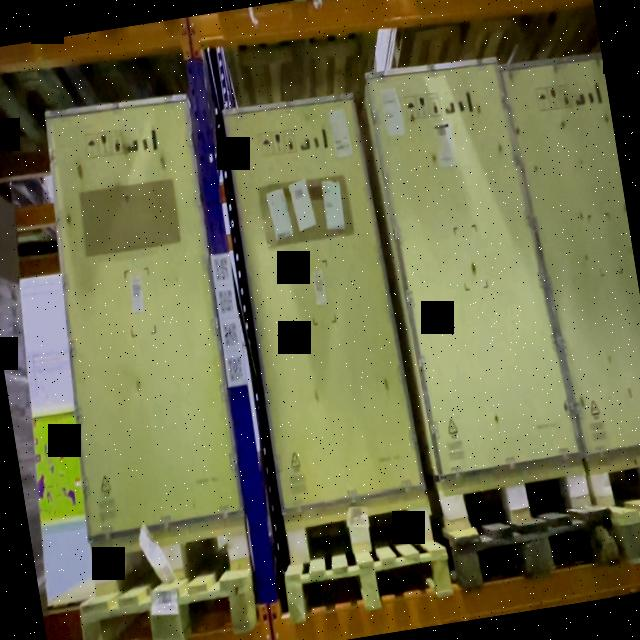box: (48, 98, 239, 528), (374, 57, 562, 476), (227, 96, 418, 506)
